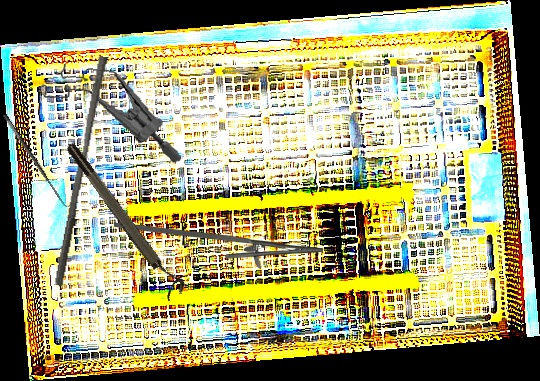Fixation Ring: (62, 135, 190, 303)
Hook Surgical: (1, 108, 76, 212)
Needle Holder: (114, 221, 323, 270)
Pusher: (54, 54, 109, 288)
Speculum: (31, 57, 191, 166)
